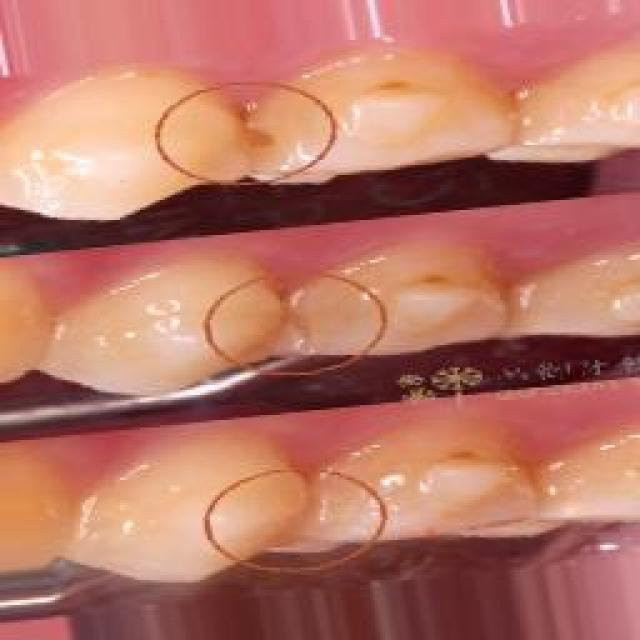caries: (230, 105, 275, 165), (275, 285, 315, 340)
